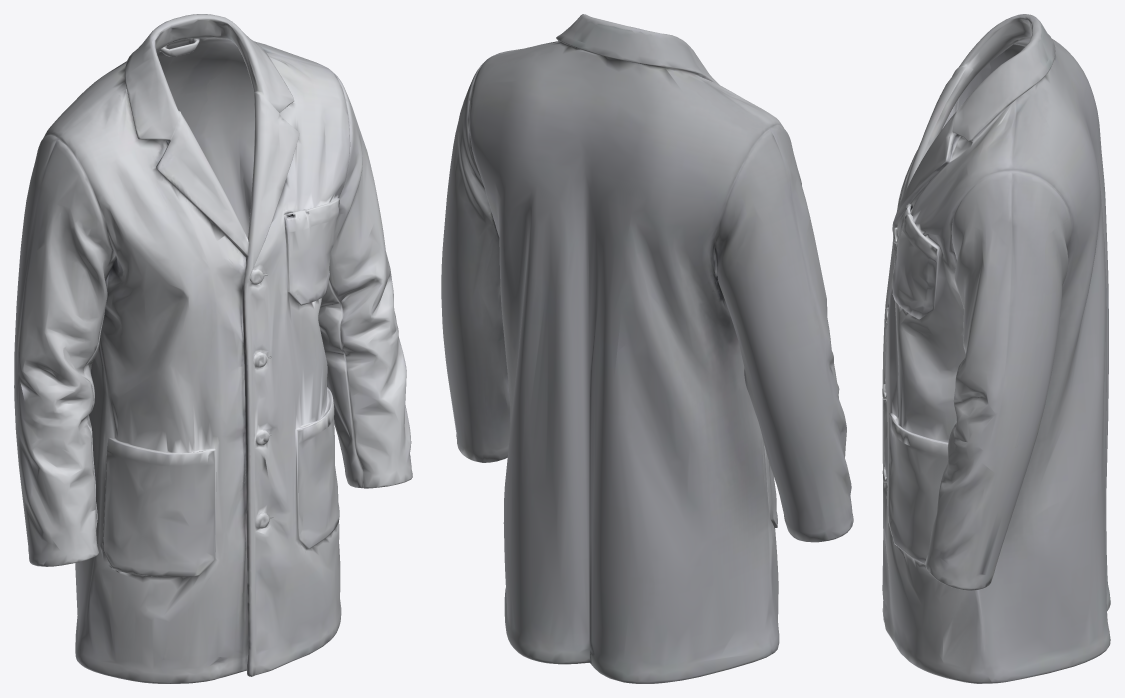
Rendered from jaleco.glb.
3 views of the same model, side by side, from view 1: azimuth 30°, elevation 25°; view 2: azimuth 150°, elevation 25°; view 3: azimuth 270°, elevation 25° (orthographic). The views are drawn at different scales.
Parts seen in each view (by area): view 1: node_0; view 2: node_0; view 3: node_0.
Part boxes in pixels (x1,y1,x2,y2): node_0: (14,14,412,683); node_0: (441,14,853,683); node_0: (882,14,1110,683).
Bounding box in the file's own units: 0.7279 × 1.11 × 0.383.
1 material, 1 textured.
